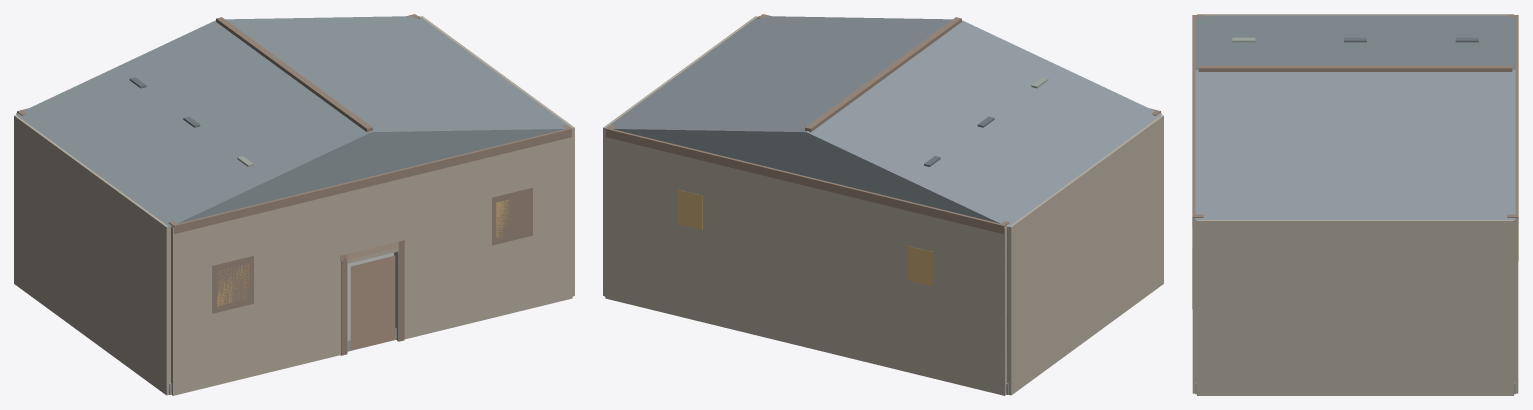
The model's file is timber_longhouse_inhabited.glb.
The picture shows the model from 3 angles, left to right: view 1: azimuth 30°, elevation 25°; view 2: azimuth 150°, elevation 25°; view 3: azimuth 270°, elevation 25°; orthographic projection. The views are drawn at different scales.
Parts seen in each view (by area): view 1: timber_longhouse_mat_01, timber_longhouse_mat_07, timber_longhouse_mat_02, timber_longhouse_mat_04, timber_longhouse_mat_06, timber_longhouse_mat_00; view 2: timber_longhouse_mat_01, timber_longhouse_mat_07, timber_longhouse_mat_02, timber_longhouse_mat_06; view 3: timber_longhouse_mat_07, timber_longhouse_mat_01, timber_longhouse_mat_02.
Boxes of the visible parts, left/top/right/bottom form: timber_longhouse_mat_01: left=14, top=16, right=574, bottom=395; timber_longhouse_mat_07: left=16, top=16, right=572, bottom=226; timber_longhouse_mat_02: left=17, top=14, right=571, bottom=355; timber_longhouse_mat_04: left=232, top=255, right=395, bottom=349; timber_longhouse_mat_06: left=217, top=199, right=511, bottom=306; timber_longhouse_mat_00: left=169, top=252, right=573, bottom=394; timber_longhouse_mat_01: left=603, top=16, right=1163, bottom=395; timber_longhouse_mat_07: left=605, top=16, right=1161, bottom=226; timber_longhouse_mat_02: left=606, top=14, right=1160, bottom=366; timber_longhouse_mat_06: left=677, top=189, right=932, bottom=286; timber_longhouse_mat_07: left=1195, top=15, right=1515, bottom=219; timber_longhouse_mat_01: left=1192, top=14, right=1518, bottom=395; timber_longhouse_mat_02: left=1192, top=15, right=1518, bottom=308.
Bounding box in the file's own units: 5.97 × 3.04 × 3.98.
